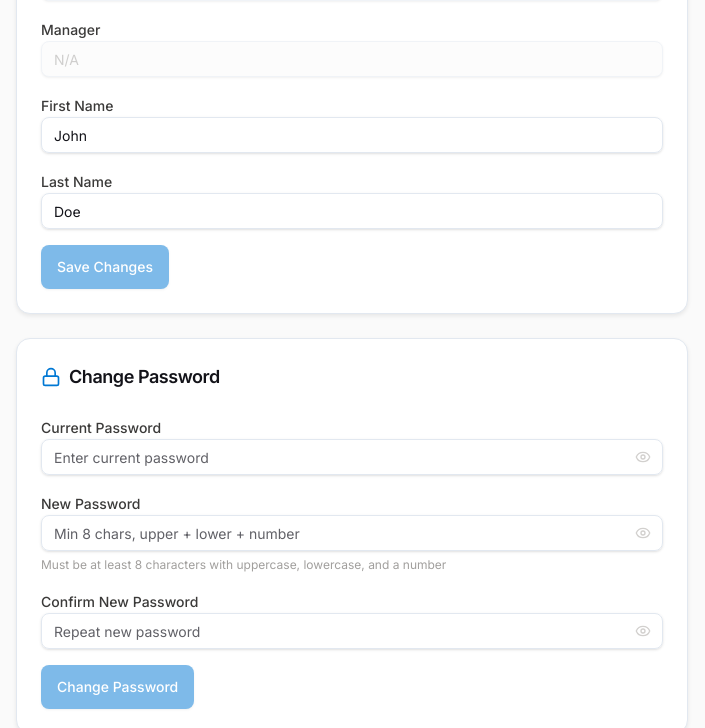
Test case: ProfilePage › password change › shows error for password mismatch
(page scrolled)
Expected: the field showing "John" is shown, left=41, top=117, right=663, bottom=153
Type "oldpass" into the password field labelled "Current Password". click: (352, 457)
box: left=41, top=439, right=663, bottom=475
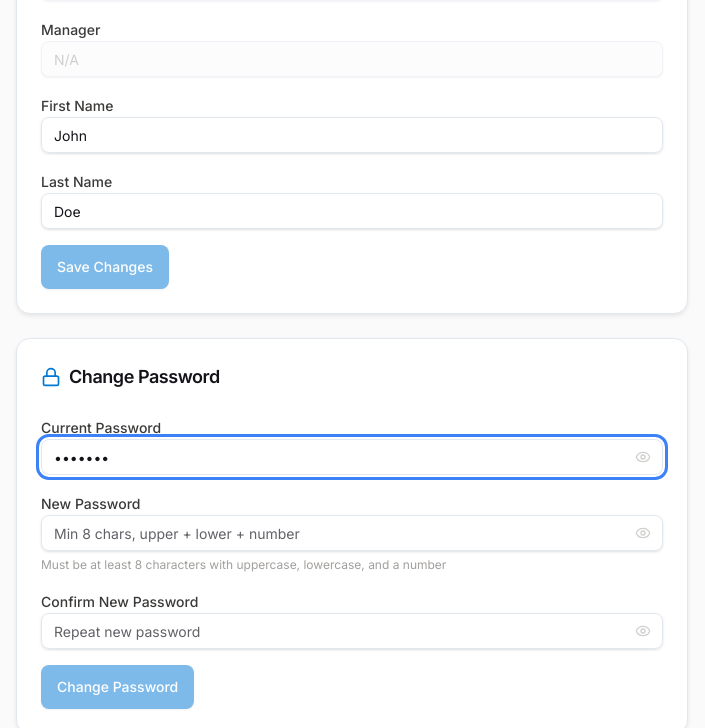
Type "NewPass123" into the password field labelled "New Password". click: (352, 533)
box: left=41, top=515, right=663, bottom=551
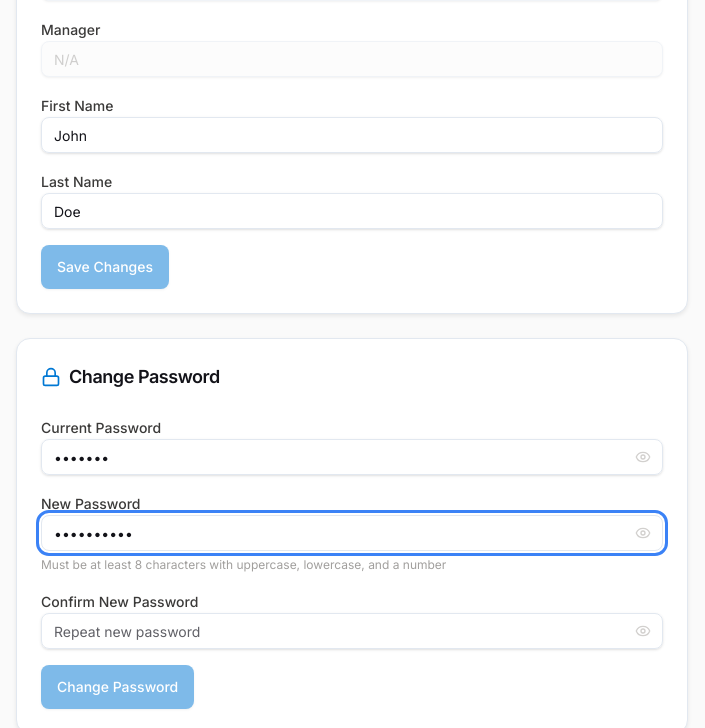
Type "NewPass456" into the password field labelled "Confirm New Password". click: (352, 631)
box: left=41, top=613, right=663, bottom=649
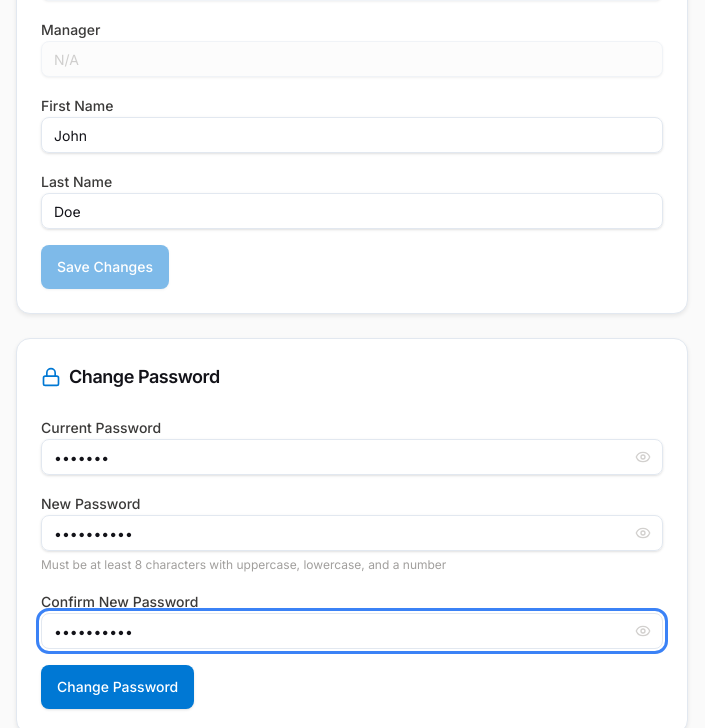
Click the button "Change Password". click: (118, 687)
box: left=41, top=665, right=194, bottom=709
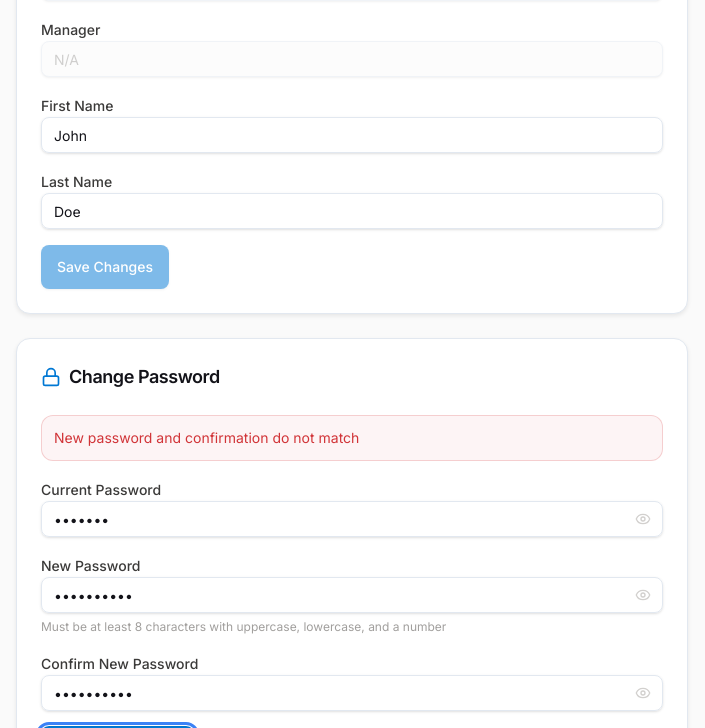
Result: the text "New password and confirmation do not match" is shown at left=41, top=415, right=663, bottom=461
